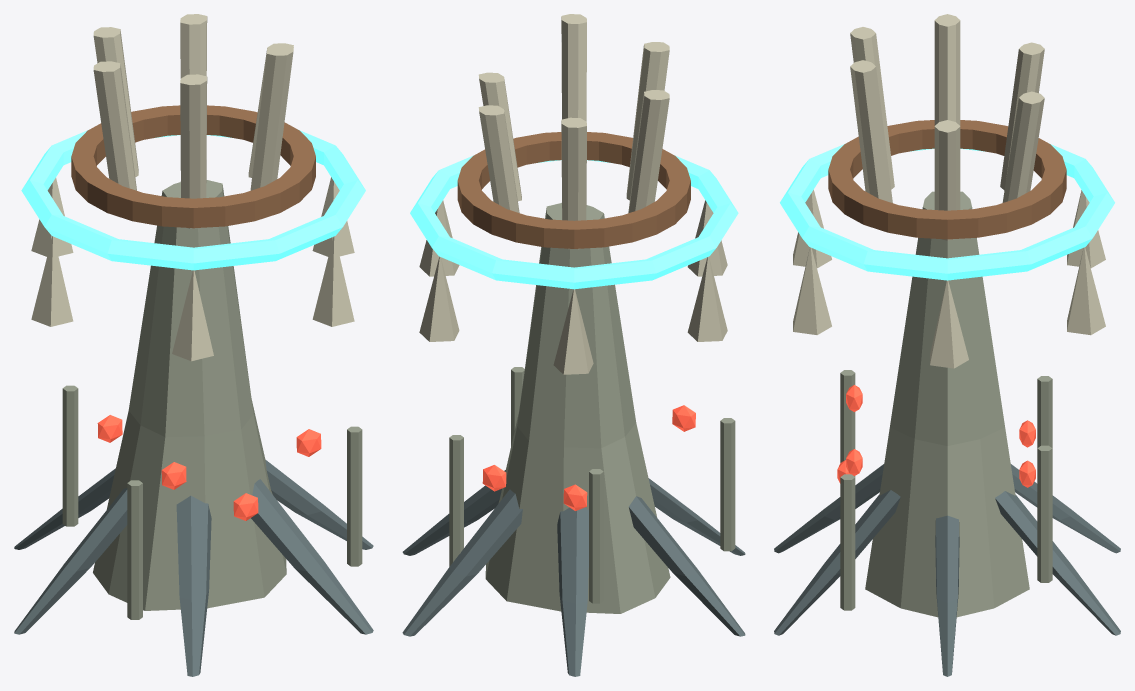
Rendered from briarchoir.fbx.
3 renders of one model, left to right at view 1: azimuth 30°, elevation 25°; view 2: azimuth 150°, elevation 25°; view 3: azimuth 270°, elevation 25°, orthographic. The views are drawn at different scales.
Visible parts, largest first — view 1: root_column, choir_crown, HP_briar_inner_ring, root_4, root_5, pipe_5, root_3, pipe_3, pipe_4, HP_briar_vine_2, root_0, HP_briar_vine_1 (+13 smaller); view 2: root_column, choir_crown, HP_briar_inner_ring, root_2, root_1, root_3, pipe_3, pipe_5, pipe_2, pipe_1, HP_briar_vine_0, HP_briar_vine_2 (+11 smaller); view 3: root_column, choir_crown, HP_briar_inner_ring, pipe_5, root_0, root_5, root_1, pipe_3, pipe_1, pipe_0, HP_briar_vine_3, HP_briar_vine_1 (+11 smaller).
Boxes of the visible parts, left/top/right/bottom form: root_column: left=93, top=180, right=286, bottom=610; choir_crown: left=71, top=105, right=315, bottom=228; HP_briar_inner_ring: left=21, top=130, right=365, bottom=270; root_4: left=176, top=495, right=211, bottom=676; root_5: left=251, top=479, right=373, bottom=634; pipe_5: left=250, top=45, right=293, bottom=190; root_3: left=14, top=488, right=127, bottom=634; pipe_3: left=93, top=61, right=136, bottom=190; pipe_4: left=180, top=74, right=207, bottom=228; HP_briar_vine_2: left=62, top=385, right=78, bottom=526; root_0: left=265, top=459, right=373, bottom=549; HP_briar_vine_1: left=347, top=426, right=362, bottom=566; root_column: left=485, top=203, right=670, bottom=613; choir_crown: left=457, top=132, right=690, bottom=248; HP_briar_inner_ring: left=410, top=155, right=738, bottom=289; root_2: left=557, top=507, right=588, bottom=676; root_1: left=402, top=489, right=522, bottom=636; root_3: left=629, top=496, right=745, bottom=636; pipe_3: left=628, top=90, right=669, bottom=213; pipe_5: left=561, top=14, right=586, bottom=121; pipe_2: left=561, top=117, right=586, bottom=249; pipe_1: left=478, top=105, right=519, bottom=212; HP_briar_vine_0: left=720, top=418, right=735, bottom=551; HP_briar_vine_2: left=589, top=469, right=603, bottom=603; root_column: left=865, top=191, right=1029, bottom=617; choir_crown: left=828, top=120, right=1066, bottom=239; HP_briar_inner_ring: left=780, top=143, right=1114, bottom=280; pipe_5: left=850, top=60, right=892, bottom=202; root_0: left=935, top=515, right=959, bottom=676; root_5: left=774, top=490, right=900, bottom=635; root_1: left=995, top=491, right=1120, bottom=635; pipe_3: left=934, top=14, right=960, bottom=125; pipe_1: left=1002, top=91, right=1044, bottom=202; pipe_0: left=934, top=120, right=960, bottom=240; HP_briar_vine_3: left=1037, top=445, right=1052, bottom=582; HP_briar_vine_1: left=840, top=474, right=855, bottom=610.
Bounding box in the file's own units: 187 × 278 × 160.
